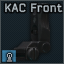KAC Folding Micro front sight: (0, 0, 64, 64)
